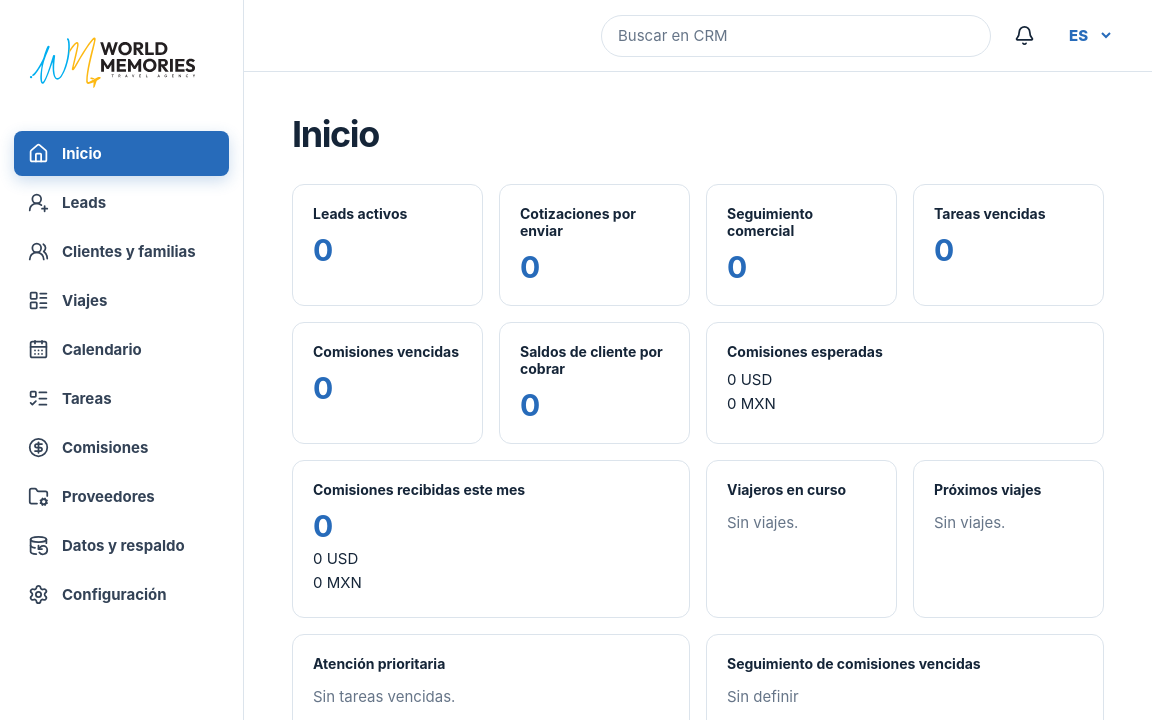
Scenario: application shell › opens the functional settings screen completely in English when selected
Select "EN" in the dropdown named "Idioma": (1086, 36) [1057,17,1114,54]
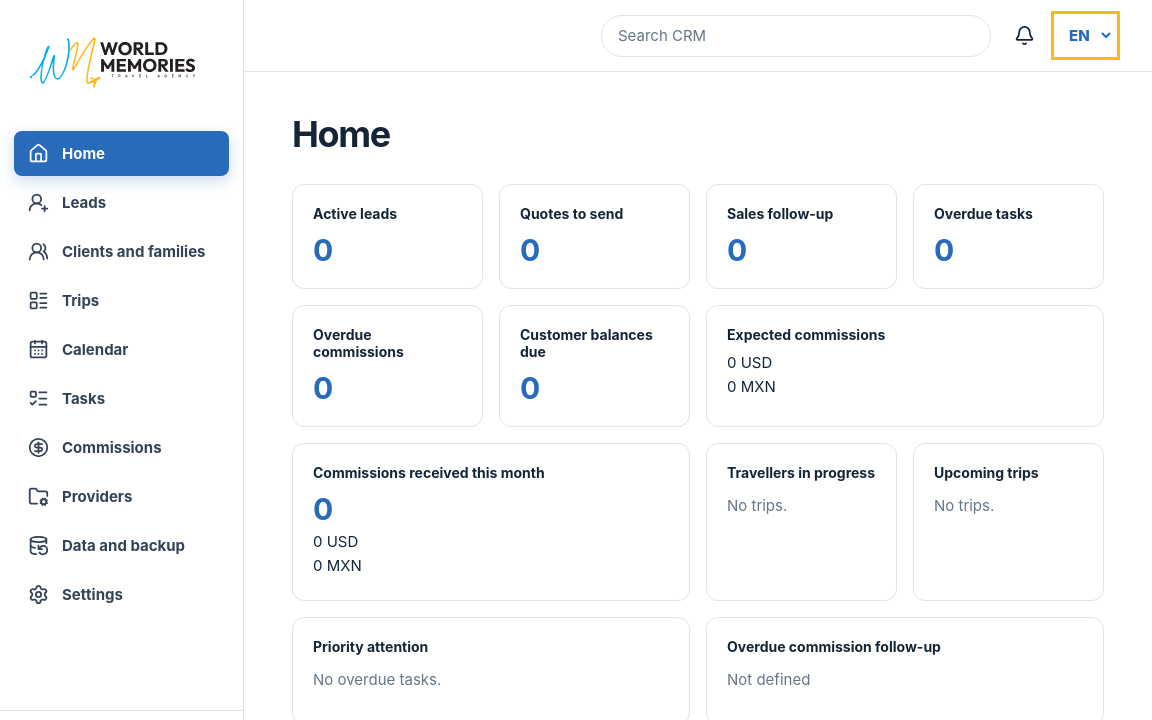
Click the button "Settings": (122, 595) [14,572,229,617]
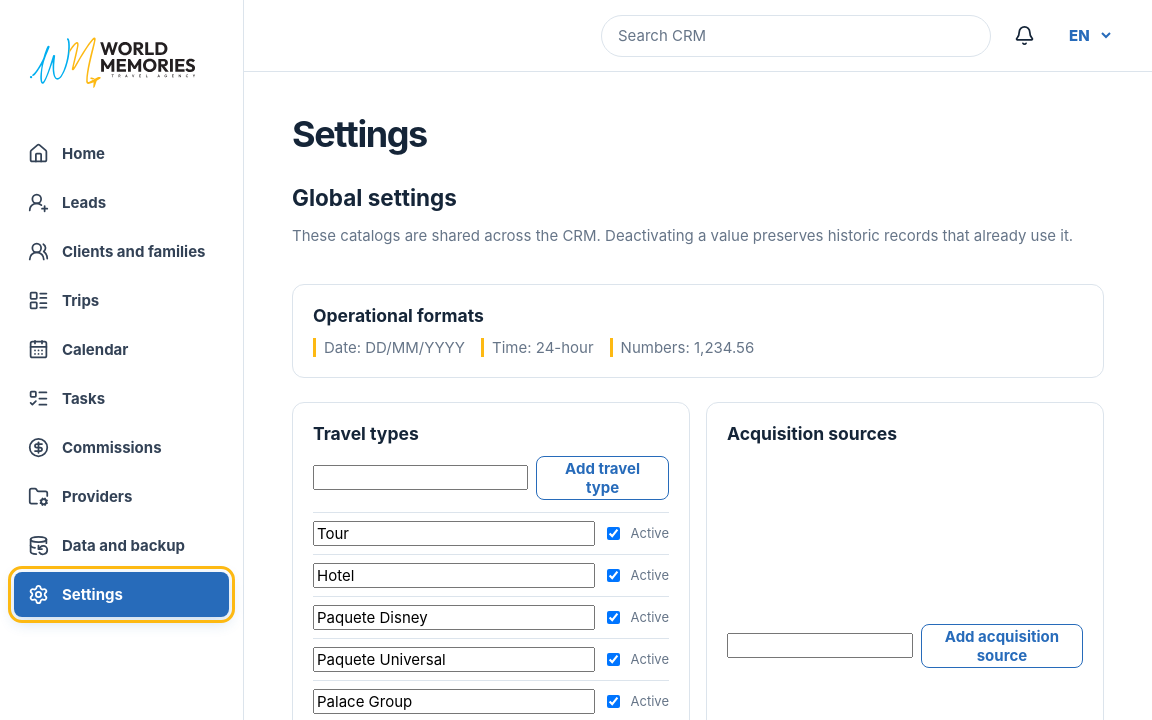
expect the heading "Settings" is shown: met, box [292,116,427,154]
expect the heading "Global settings" is shown: met, box [292,184,457,211]
expect the list item "Date: DD/MM/YYYY" is shown: met, box [313,338,465,357]
